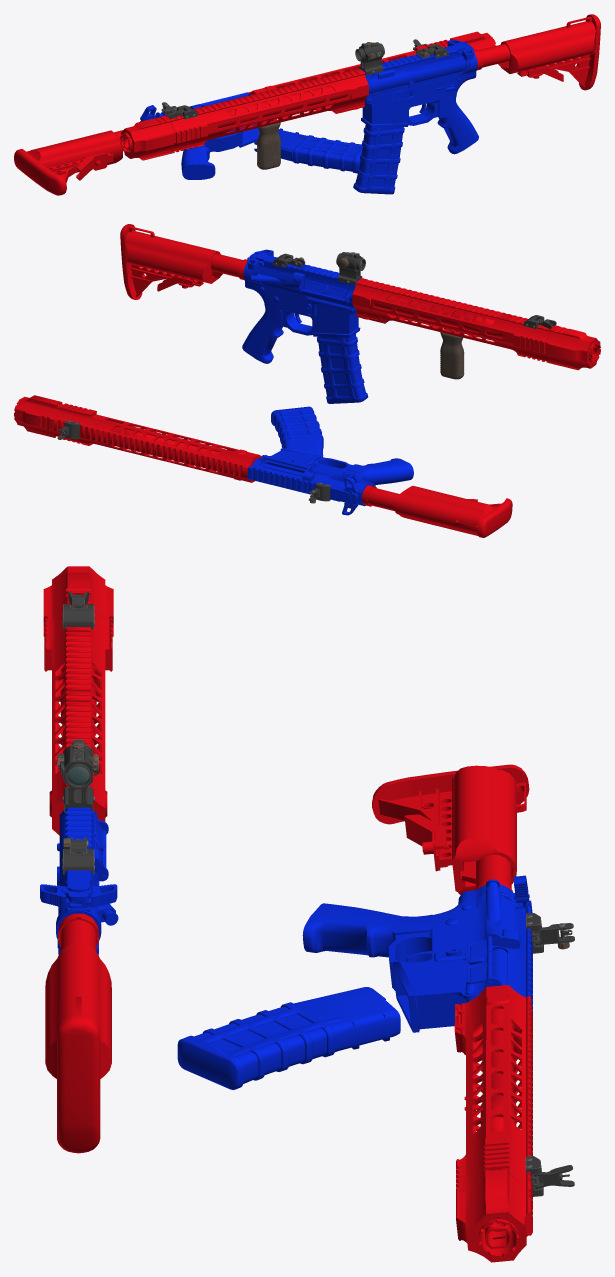
3 renders of one model, top to bottom at view 1: azimuth 30°, elevation 25°; view 2: azimuth 150°, elevation 25°; view 3: azimuth 270°, elevation 25°, orthographic. The views are drawn at different scales.
Parts seen in each view (by area): view 1: cevyo_low.001, reciver1_low.001, cevyo_low.002, reciver1_low.005, reciver1_low.008, Bolt_low.002, reciver1_low.006, reciver1_low.003; view 2: cevyo_low.001, cevyo_low.002, reciver1_low.001, reciver1_low.006, reciver1_low.005, Bolt_low.002, reciver1_low.008, Bolt_low.009, reciver1_low.002, reciver1_low.009; view 3: cevyo_low.002, cevyo_low.001, reciver1_low.006, reciver1_low.008, Bolt_low.002, reciver1_low.001, Bolt_low.009, reciver1_low.003, reciver1_low.007.
Part boxes in pixels (bbox=[...]): cevyo_low.001: bbox=[120, 14, 600, 160]; reciver1_low.001: bbox=[360, 44, 478, 154]; cevyo_low.002: bbox=[14, 31, 495, 195]; reciver1_low.005: bbox=[353, 124, 404, 194]; reciver1_low.008: bbox=[254, 128, 362, 173]; Bolt_low.002: bbox=[164, 42, 448, 169]; reciver1_low.006: bbox=[154, 92, 259, 179]; reciver1_low.003: bbox=[447, 40, 473, 60]; cevyo_low.001: bbox=[120, 224, 600, 370]; cevyo_low.002: bbox=[14, 395, 512, 537]; reciver1_low.001: bbox=[242, 253, 361, 363]; reciver1_low.006: bbox=[247, 448, 413, 506]; reciver1_low.005: bbox=[317, 334, 368, 403]; Bolt_low.002: bbox=[272, 252, 556, 379]; reciver1_low.008: bbox=[271, 406, 323, 454]; Bolt_low.009: bbox=[57, 420, 331, 503]; reciver1_low.002: bbox=[298, 279, 349, 302]; reciver1_low.009: bbox=[342, 477, 359, 515]; cevyo_low.002: bbox=[372, 764, 532, 1262]; cevyo_low.001: bbox=[43, 566, 113, 1153]; reciver1_low.006: bbox=[302, 879, 532, 1032]; reciver1_low.008: bbox=[177, 987, 400, 1089]; Bolt_low.002: bbox=[57, 591, 98, 874]; reciver1_low.001: bbox=[56, 807, 118, 954]; Bolt_low.009: bbox=[525, 913, 574, 1196]; reciver1_low.003: bbox=[40, 884, 117, 908]; reciver1_low.007: bbox=[466, 936, 492, 986].
Size of the model in its own units: 120 by 37.31 by 58.81.
